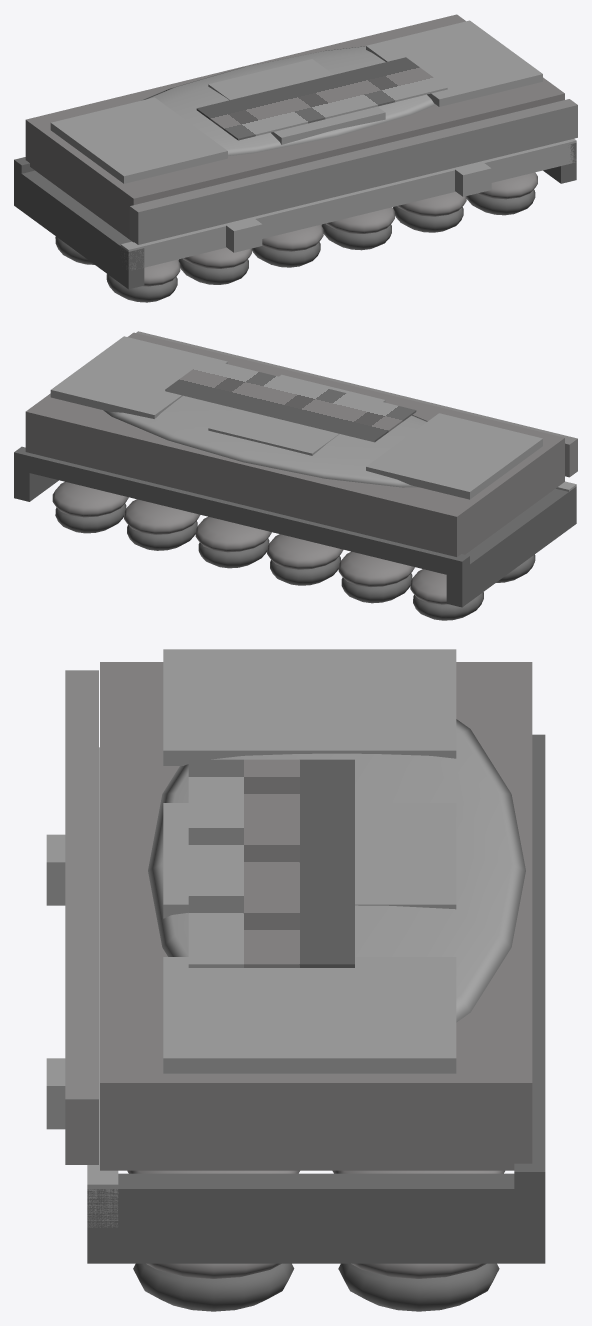
Rendered from CMU3DFoodContainerEggExtraCloud.glb.
3 renders of one model, top to bottom at view 1: azimuth 30°, elevation 25°; view 2: azimuth 150°, elevation 25°; view 3: azimuth 270°, elevation 25°, orthographic. The views are drawn at different scales.
Parts seen in each view (by area): view 1: front lid rolled edge, closed broad molded lid, front continuous latching rim, original small egg-carton embossed marking, pressed lid panel 1, pressed lid panel 3, softened closed lid crown, carton left side flange, pressed lid panel 2, molded pocket bottom 1.4, molded pocket bottom 1.3, molded pocket bottom 1.5 (+13 smaller); view 2: closed broad molded lid, rear continuous hinge rail, original small egg-carton embossed marking, softened closed lid crown, pressed lid panel 1, pressed lid panel 3, carton left side flange, pressed lid panel 2, molded pocket bottom 2.6, molded pocket bottom 2.2, molded pocket bottom 2.4, molded pocket bottom 2.3 (+11 smaller); view 3: closed broad molded lid, carton right side flange, original small egg-carton embossed marking, pressed lid panel 3, pressed lid panel 1, softened closed lid crown, front lid rolled edge, pressed lid panel 2, rear continuous hinge rail, molded egg pocket foot 1.6, molded egg pocket foot 2.6, front continuous latching rim (+4 smaller).
Part boxes in pixels (<box>): front lid rolled edge: <box>129,99,577,244</box>; closed broad molded lid: <box>25,14,564,242</box>; front continuous latching rim: <box>120,139,576,269</box>; original small egg-carton embossed marking: <box>196,57,447,140</box>; pressed lid panel 1: <box>50,97,227,183</box>; pressed lid panel 3: <box>366,20,542,106</box>; softened closed lid crown: <box>141,46,435,155</box>; carton left side flange: <box>14,168,144,289</box>; pressed lid panel 2: <box>208,59,385,144</box>; molded pocket bottom 1.4: <box>326,207,394,233</box>; molded pocket bottom 1.3: <box>262,224,323,251</box>; molded pocket bottom 1.5: <box>397,191,466,216</box>; closed broad molded lid: <box>25,332,564,556</box>; rear continuous hinge rail: <box>14,446,469,576</box>; original small egg-carton embossed marking: <box>165,359,416,442</box>; softened closed lid crown: <box>103,395,427,487</box>; pressed lid panel 1: <box>366,413,542,499</box>; pressed lid panel 3: <box>50,336,227,418</box>; carton left side flange: <box>446,486,576,607</box>; pressed lid panel 2: <box>208,374,385,455</box>; molded pocket bottom 2.6: <box>52,482,128,517</box>; molded pocket bottom 2.2: <box>338,551,414,587</box>; molded pocket bottom 2.4: <box>195,516,271,552</box>; molded pocket bottom 2.3: <box>267,534,343,569</box>; closed broad molded lid: <box>100,662,532,1170</box>; carton right side flange: <box>87,1173,545,1263</box>; original small egg-carton embossed marking: <box>188,759,354,967</box>; pressed lid panel 3: <box>163,957,456,1073</box>; pressed lid panel 1: <box>163,649,456,765</box>; softened closed lid crown: <box>148,719,525,1022</box>; front lid rolled edge: <box>65,670,98,1164</box>; pressed lid panel 2: <box>163,803,456,918</box>; rear continuous hinge rail: <box>514,734,545,1205</box>; molded egg pocket foot 1.6: <box>133,1263,294,1311</box>; molded egg pocket foot 2.6: <box>338,1263,499,1311</box>; front continuous latching rim: <box>87,747,118,1227</box>.
Size of the model in its own units: 0.802 by 0.2385 by 0.3865.
Materials: 5 (1 with a texture image).
